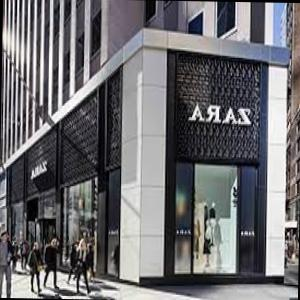zara: (184, 104, 253, 126), (19, 154, 56, 186)
